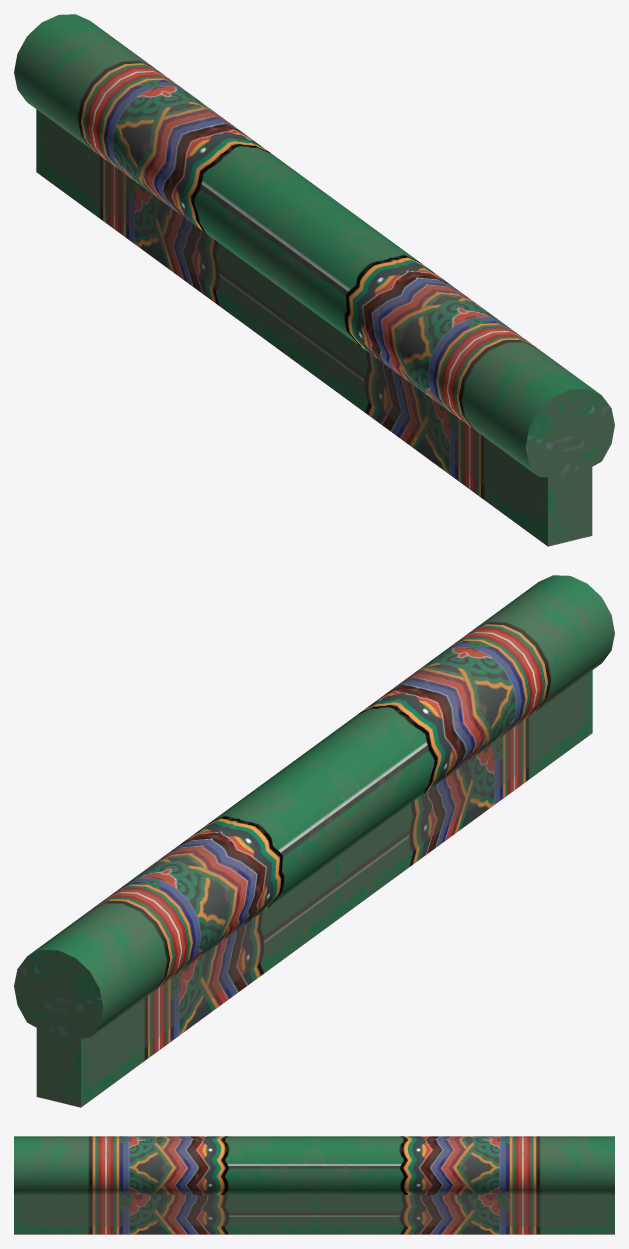
The model's file is SM_Purlin01c.fbx.
The picture shows the model from 3 angles, top to bottom: view 1: azimuth 30°, elevation 25°; view 2: azimuth 150°, elevation 25°; view 3: azimuth 270°, elevation 25°; orthographic projection. The views are drawn at different scales.
Visible parts, largest first — view 1: SM_Purlin01c; view 2: SM_Purlin01c; view 3: SM_Purlin01c.
Part boxes in pixels (x1,y1,x2,y2): SM_Purlin01c: [14, 14, 614, 546]; SM_Purlin01c: [14, 575, 614, 1107]; SM_Purlin01c: [14, 1136, 614, 1234].
Bounding box in the file's own units: 20.15 × 200 × 32.73.
Materials: 1 (1 with a texture image).
